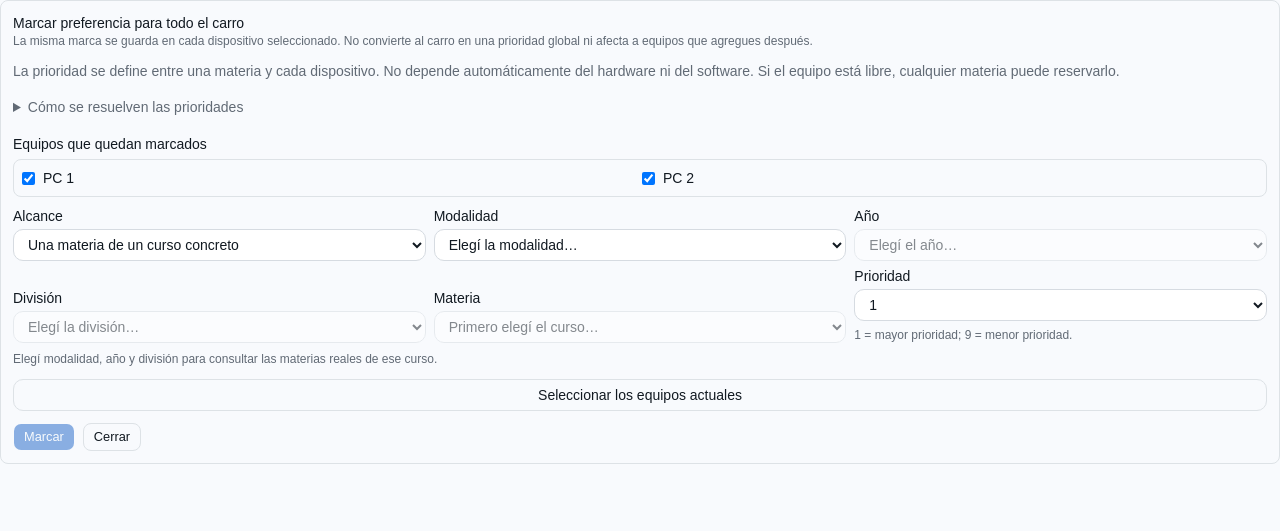
it: el resultado anterior se borra al volver a marcar
Expected: the text "PC 1" is shown, [22,170,74,186]
Select "Regla general para varios cursos o espacios" in the dropdown labelled "Alcance" at (219, 245), box [13,229,426,261]
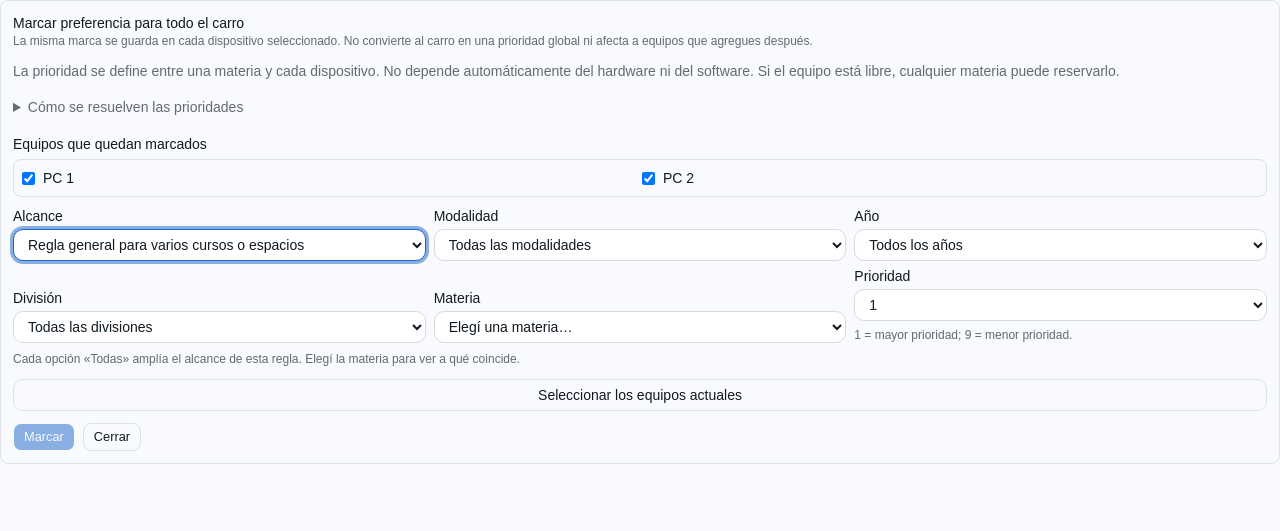
Select "Dibujo Técnico" in the dropdown labelled "Materia" at (640, 327), box [434,311,846,343]
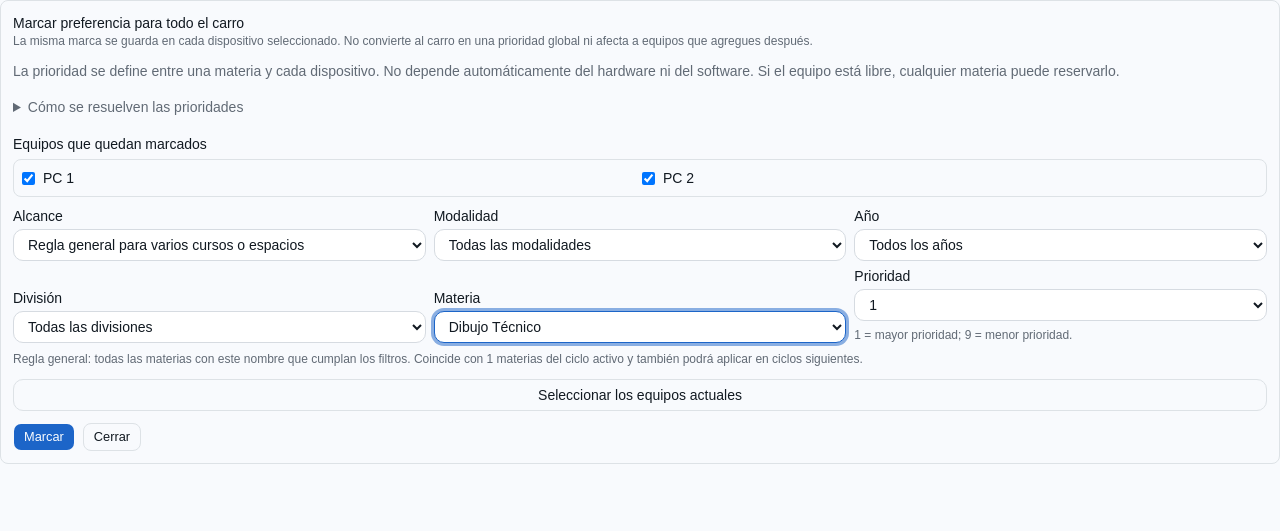
Click the button "Marcar" at (44, 437), box [13,423,75,451]
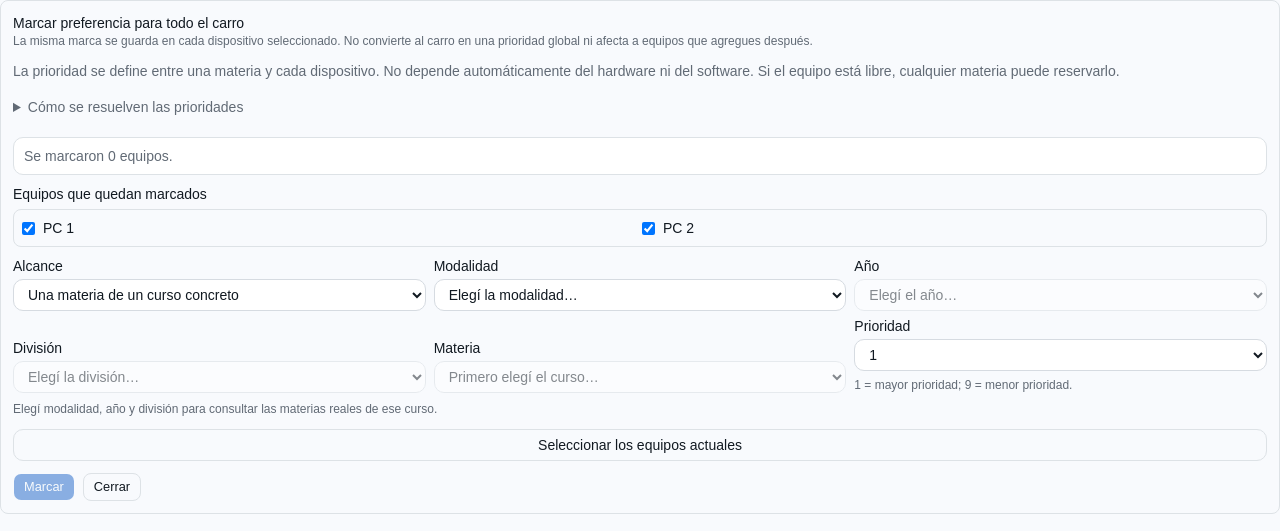
Now the text "Se marcaron 0 equipos." is shown, box [24,148,173,164]
Select "Regla general para varios cursos o espacios" in the dropdown labelled "Alcance" at (219, 295), box [13,279,426,311]
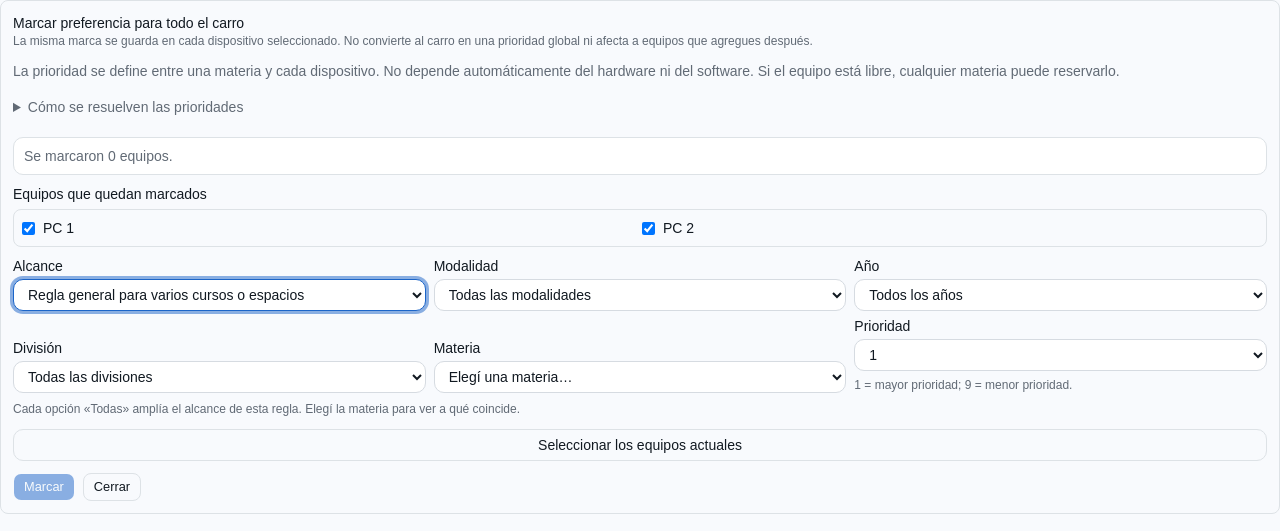
Select "Dibujo Técnico" in the dropdown labelled "Materia" at (640, 377), box [434,361,846,393]
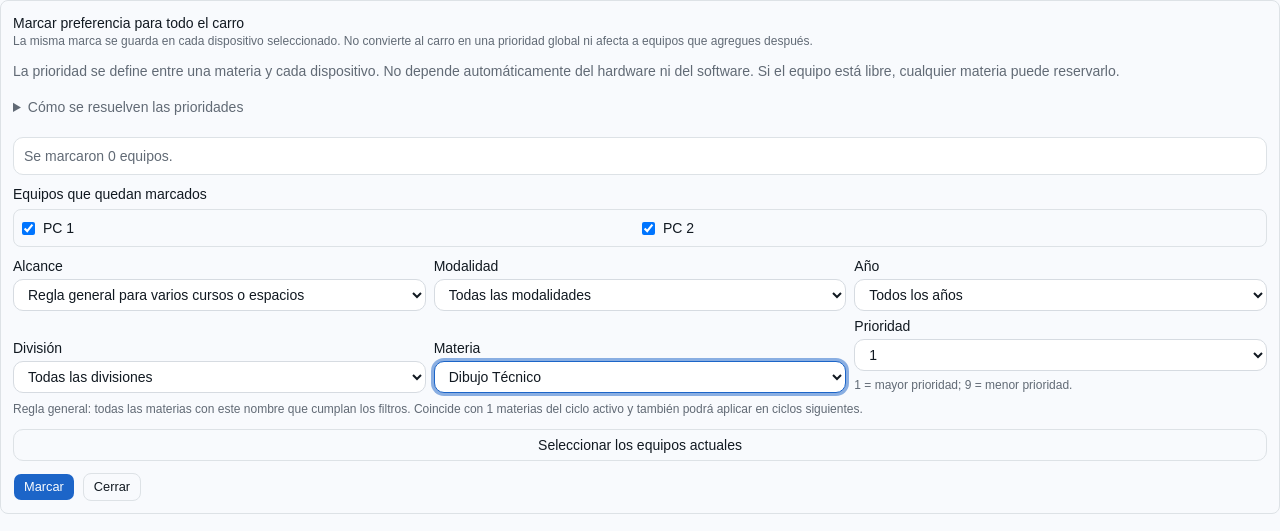
Click the button "Marcar" at (44, 487), box [13,473,75,501]
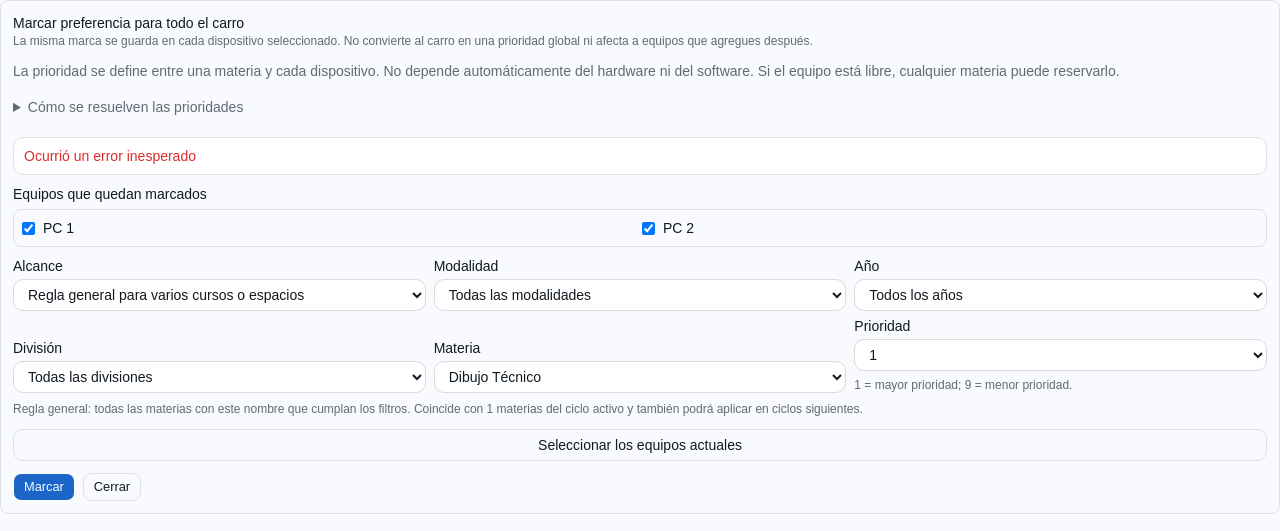
Now the text "Ocurrió un error inesperado" is shown, box [24,148,196,164]
Now the text "Se marcaron 0 equipos." is gone
